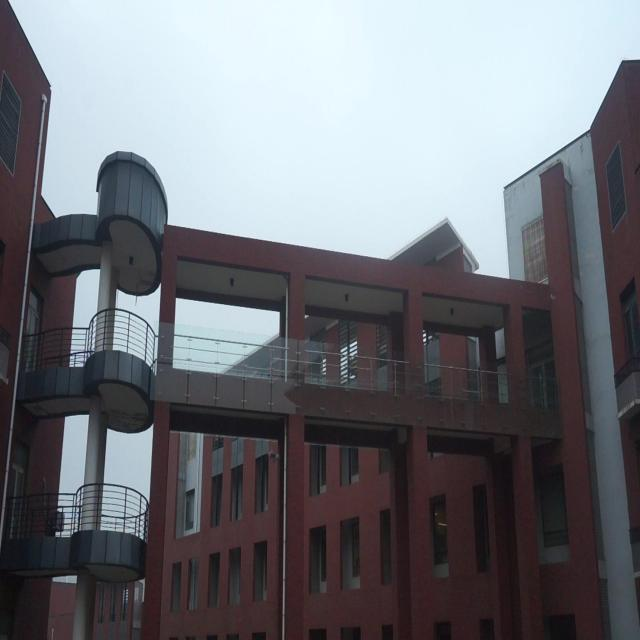UAV: (268, 450, 280, 462)
